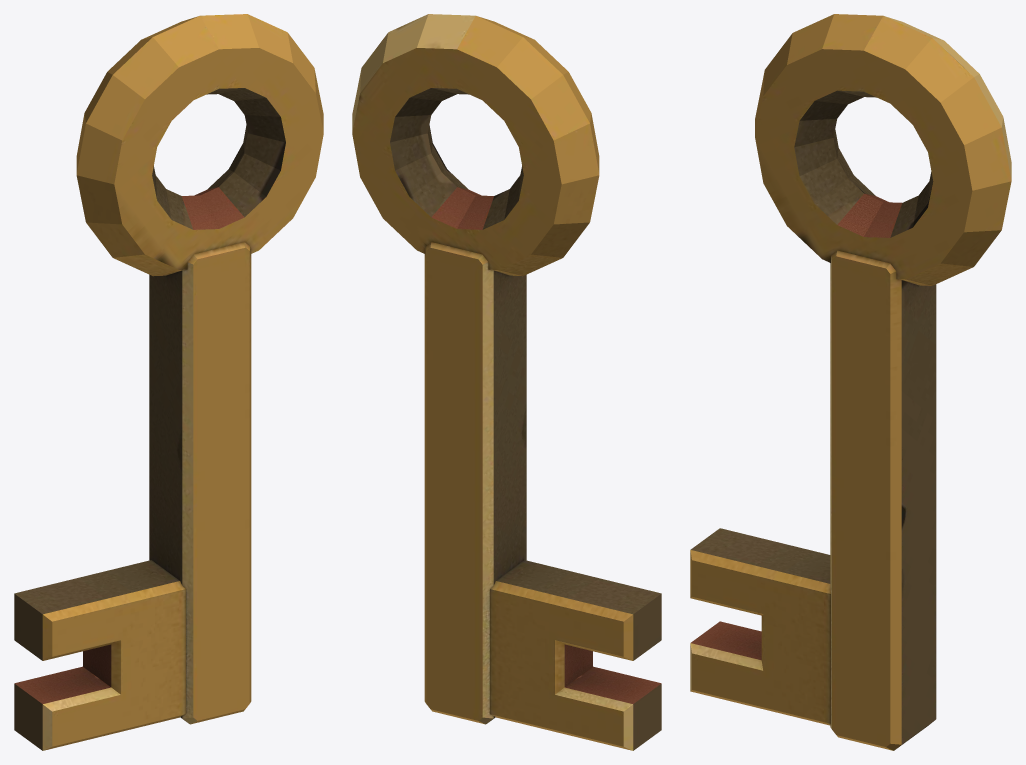
3 views of the same model, side by side, from view 1: azimuth 30°, elevation 25°; view 2: azimuth 150°, elevation 25°; view 3: azimuth 330°, elevation 25° (orthographic). The views are drawn at different scales.
Visible parts, largest first — view 1: Warm_polished_brass, Worn_dark_brass_edges, Warm_brass_bevels, Rust_in_recesses; view 2: Warm_polished_brass, Worn_dark_brass_edges, Warm_brass_bevels, Rust_in_recesses; view 3: Warm_polished_brass, Worn_dark_brass_edges, Rust_in_recesses, Warm_brass_bevels.
Boxes of the visible parts, <box> form: Warm_polished_brass: <box>42,14,323,750</box>; Worn_dark_brass_edges: <box>14,88,285,750</box>; Warm_brass_bevels: <box>42,262,196,750</box>; Rust_in_recesses: <box>14,187,244,703</box>; Warm_polished_brass: <box>352,16,633,750</box>; Worn_dark_brass_edges: <box>390,88,661,750</box>; Warm_brass_bevels: <box>352,14,633,750</box>; Rust_in_recesses: <box>431,187,661,703</box>; Warm_polished_brass: <box>690,14,1011,750</box>; Worn_dark_brass_edges: <box>690,90,936,748</box>; Rust_in_recesses: <box>691,193,902,660</box>; Warm_brass_bevels: <box>690,16,1011,728</box>.
Bounding box in the file's own units: 0.43 × 0.96 × 0.108.
Materials: 4 (4 with a texture image).
